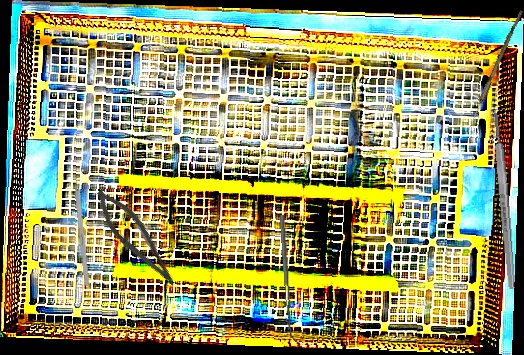Hook Surgical: (72, 168, 90, 287)
Micro Scissor: (85, 183, 189, 293)
Scalpel Handle: (491, 112, 517, 290)
Spatula Surgical: (279, 214, 298, 343)
Surgical Spoon: (465, 9, 523, 135)
